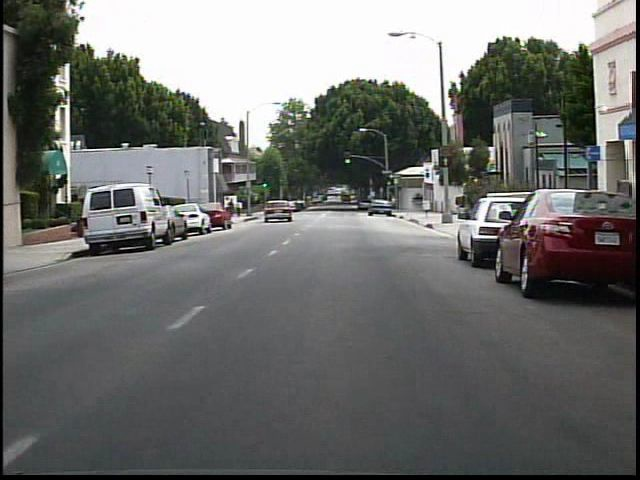person: (236, 198, 248, 221), (225, 197, 237, 220)
